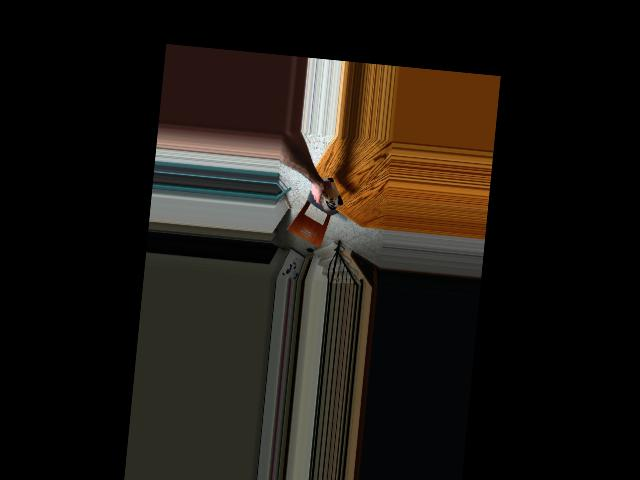cheese: (309, 173, 345, 212)
